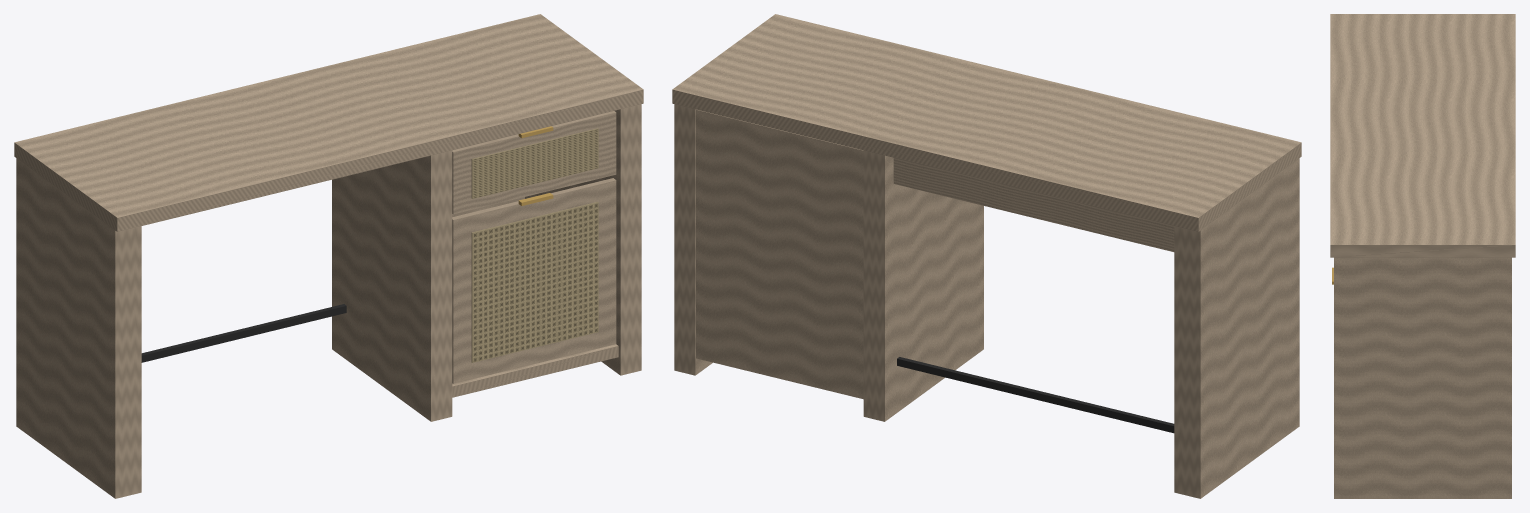
3 renders of one model, left to right at view 1: azimuth 30°, elevation 25°; view 2: azimuth 150°, elevation 25°; view 3: azimuth 270°, elevation 25°, orthographic. The views are drawn at different scales.
Visible parts, largest first — view 1: 1 desktop, 2 left_leg_panel, 5 cabinet_left_panel, 13 cabinet_door_rattan_mesh, 12 cabinet_door, 6 cabinet_right_panel, 9 drawer_front, 10 drawer_rattan_mesh, 8 cabinet_bottom_panel, 4 bottom_crossbar; view 2: 1 desktop, 7 cabinet_back_panel, 2 left_leg_panel, 5 cabinet_left_panel, 3 back_apron, 6 cabinet_right_panel, 4 bottom_crossbar; view 3: 1 desktop, 6 cabinet_right_panel.
Boxes of the visible parts, <box> form: 1 desktop: <box>14,14,643,231</box>; 2 left_leg_panel: <box>16,158,141,498</box>; 5 cabinet_left_panel: <box>332,150,452,421</box>; 13 cabinet_door_rattan_mesh: <box>471,202,598,362</box>; 12 cabinet_door: <box>452,178,616,383</box>; 6 cabinet_right_panel: <box>525,104,641,375</box>; 9 drawer_front: <box>452,111,616,214</box>; 10 drawer_rattan_mesh: <box>471,128,598,198</box>; 8 cabinet_bottom_panel: <box>452,344,618,397</box>; 4 bottom_crossbar: <box>141,304,346,362</box>; 1 desktop: <box>672,14,1301,231</box>; 7 cabinet_back_panel: <box>696,109,863,399</box>; 2 left_leg_panel: <box>1174,158,1299,498</box>; 5 cabinet_left_panel: <box>863,150,983,421</box>; 3 back_apron: <box>893,158,1174,251</box>; 6 cabinet_right_panel: <box>674,104,712,375</box>; 4 bottom_crossbar: <box>897,357,1174,433</box>; 1 desktop: <box>1330,14,1515,257</box>; 6 cabinet_right_panel: <box>1334,257,1511,498</box>.
Size of the model in its own units: 1.95 by 1 by 0.662.
4 materials, 2 textured.
